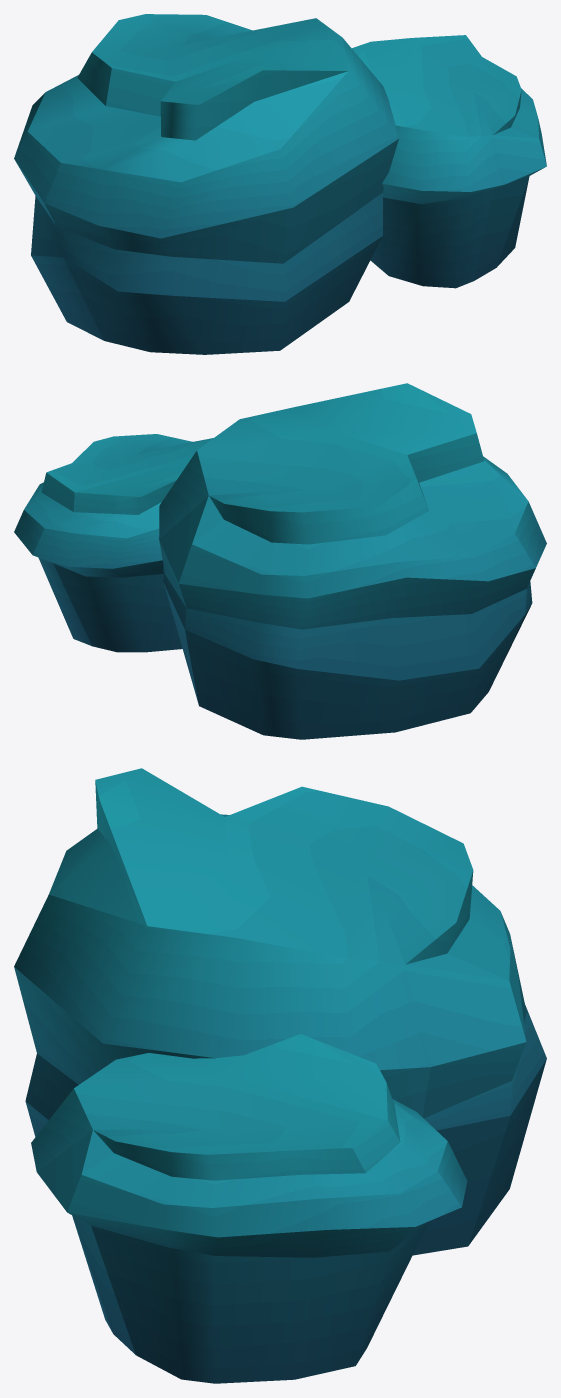
Rendered from RockE.fbx.
The picture shows the model from 3 angles, top to bottom: view 1: azimuth 30°, elevation 25°; view 2: azimuth 150°, elevation 25°; view 3: azimuth 270°, elevation 25°; orthographic projection. The views are drawn at different scales.
Parts seen in each view (by area): view 1: RockE; view 2: RockE; view 3: RockE.
Part boxes in pixels (left/top/right/bottom): RockE: left=14, top=14, right=546, bottom=354; RockE: left=14, top=383, right=546, bottom=739; RockE: left=14, top=768, right=546, bottom=1383.
Bounding box in the file's own units: 191 × 98.94 × 125.
1 material, 1 textured.
